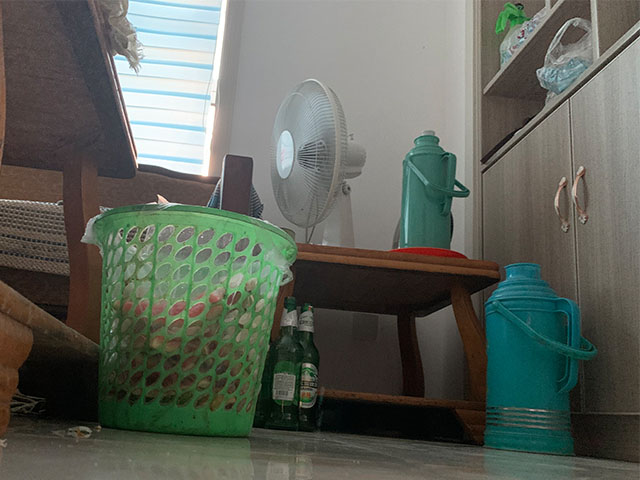cabinet: (472, 25, 640, 463)
table: (253, 242, 503, 446)
trashcan: (88, 202, 300, 440)
